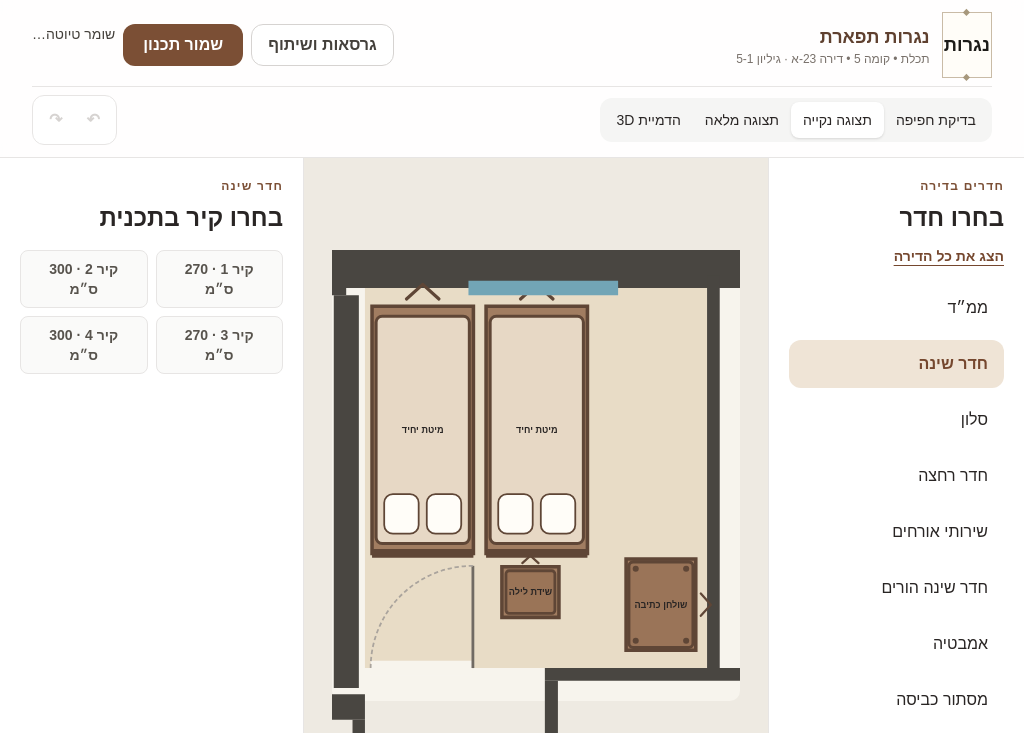
Test: Tiferet planner UI › מציג שגיאה ידידותית כאשר האחסון המקומי חוסם שמירה
Click the button "שמור תכנון" at (183, 45), box [123,24,243,66]
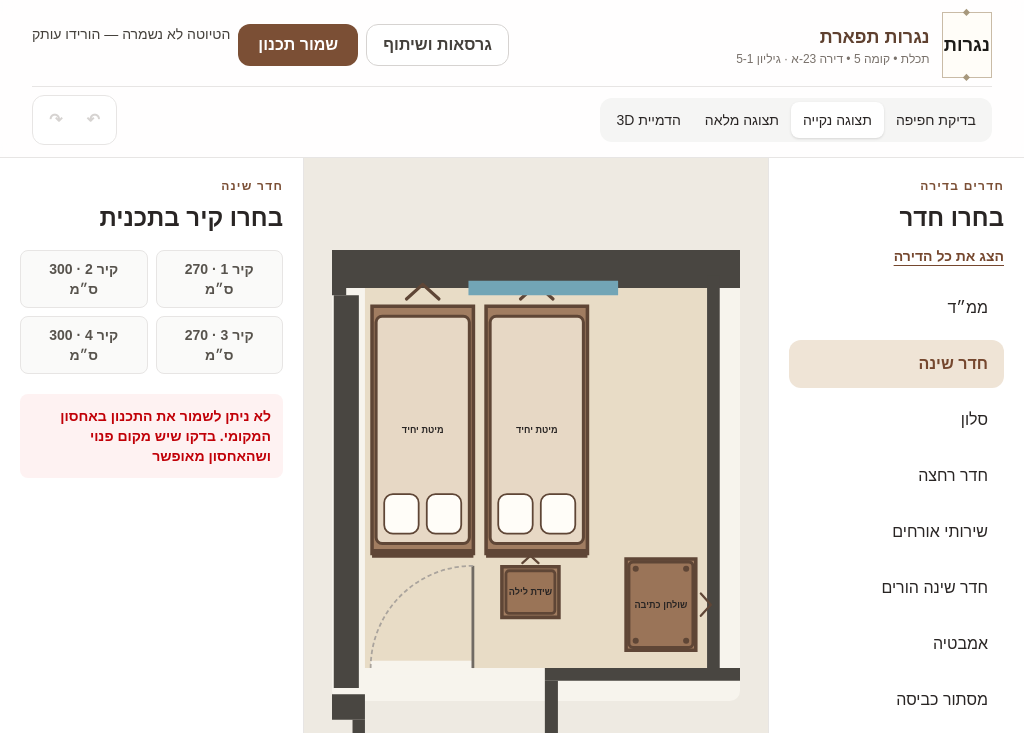
Now the message "לא ניתן לשמור את התכנון באחסון המקומי. בדקו שיש מקום פנוי ושהאחסון מאופשר" is shown, box [20,394,283,478]
